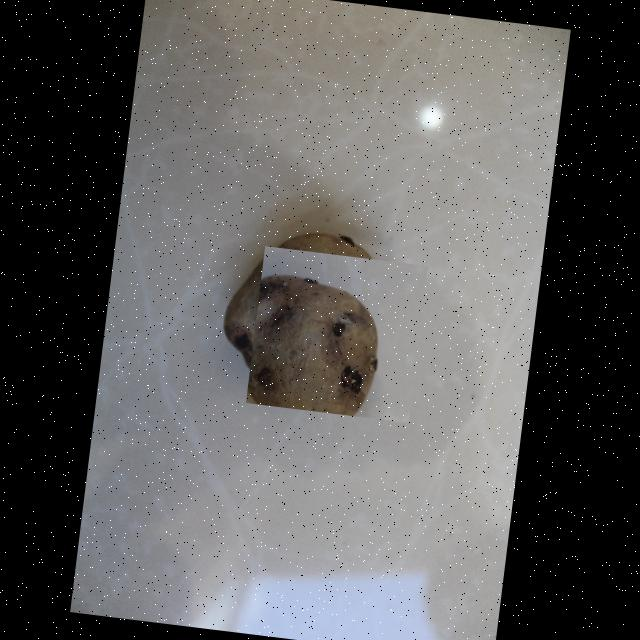Diseased-fungal potato: (245, 244, 428, 422)
